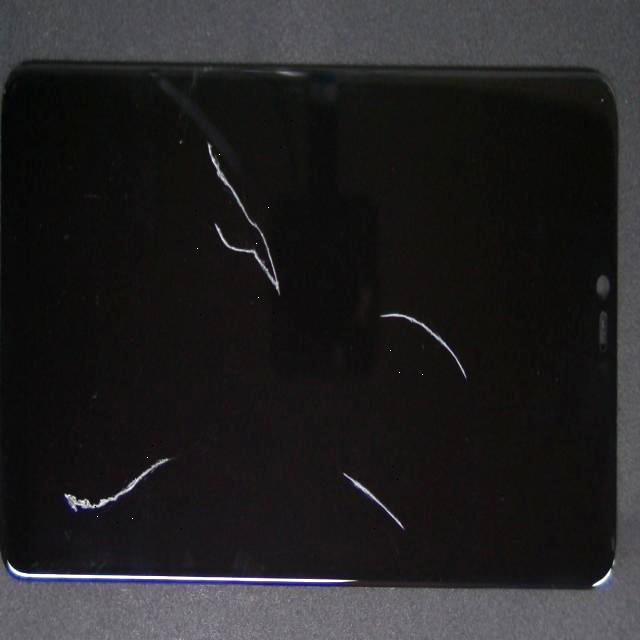scratch: (93, 241, 526, 640), (182, 122, 569, 483), (55, 54, 325, 369), (96, 239, 148, 640)
